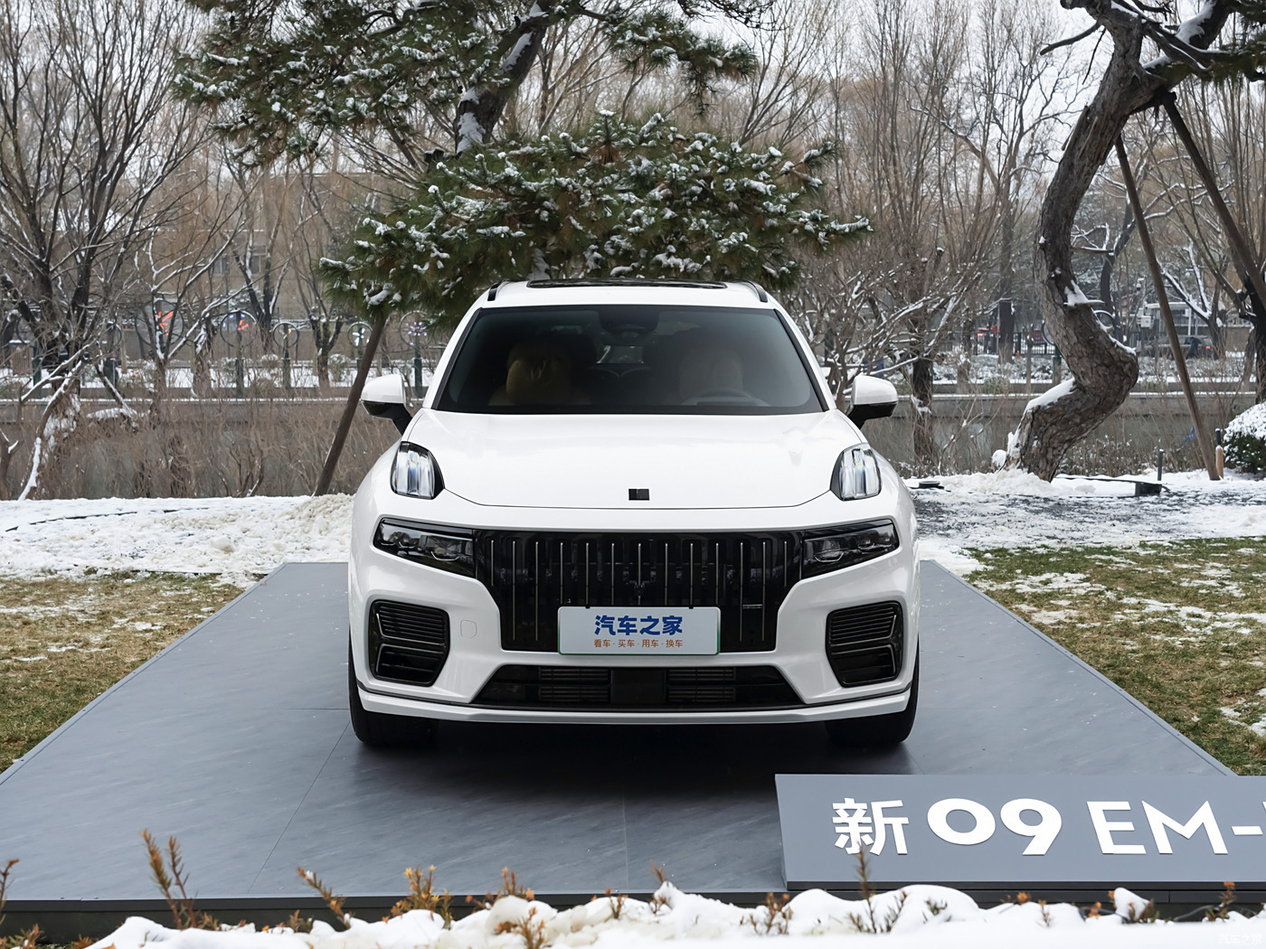LINK&CO: (628, 489, 649, 501)
